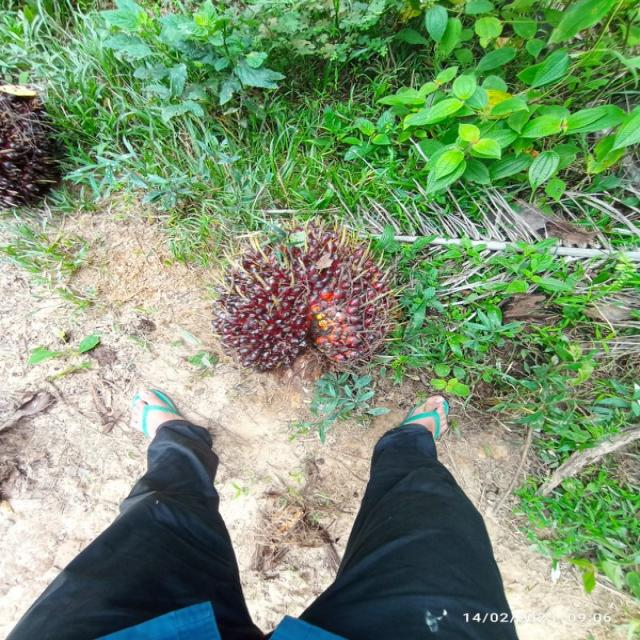fraksi 1: (207, 220, 390, 376)
